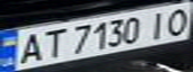0: (121, 14, 148, 44)
1: (90, 18, 112, 50)
3: (106, 16, 127, 47)
7: (66, 21, 93, 55)
A: (12, 29, 48, 65)
I: (142, 8, 172, 39)
O: (160, 4, 193, 36)
T: (36, 26, 69, 60)
